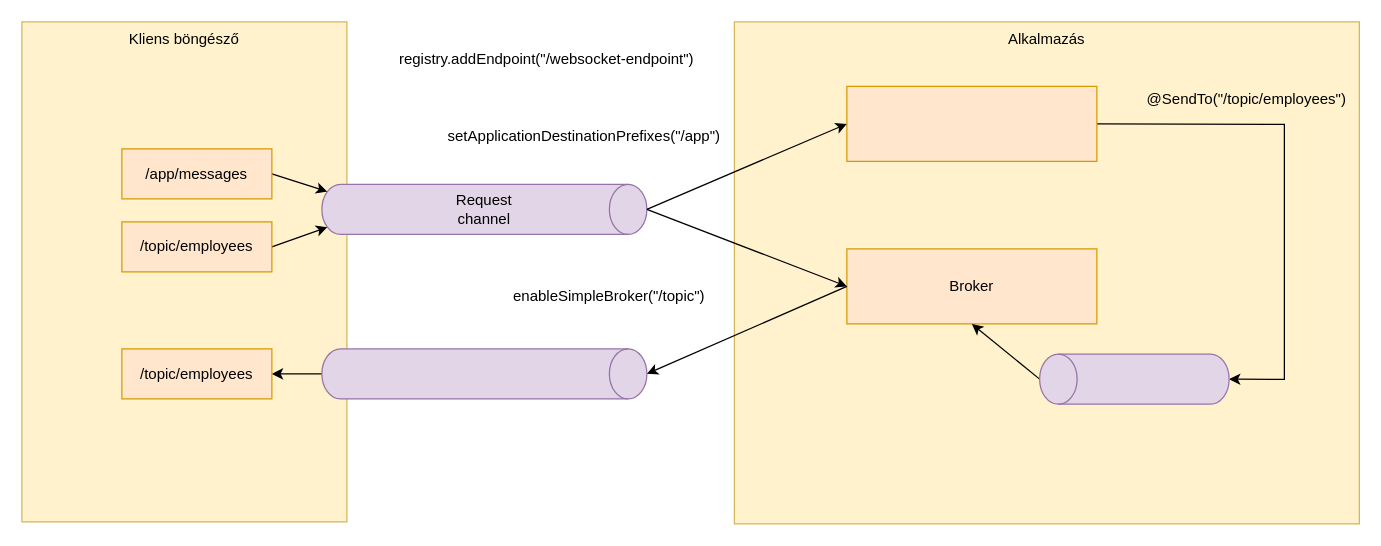
Image size: 1381x546. Some labels were removed from this diagram. Each missing label, with the centre of its shape:
@MessageMapping("/messages"): (971,123)
Broker channel: (1133,378)
Response channel: (484,373)
